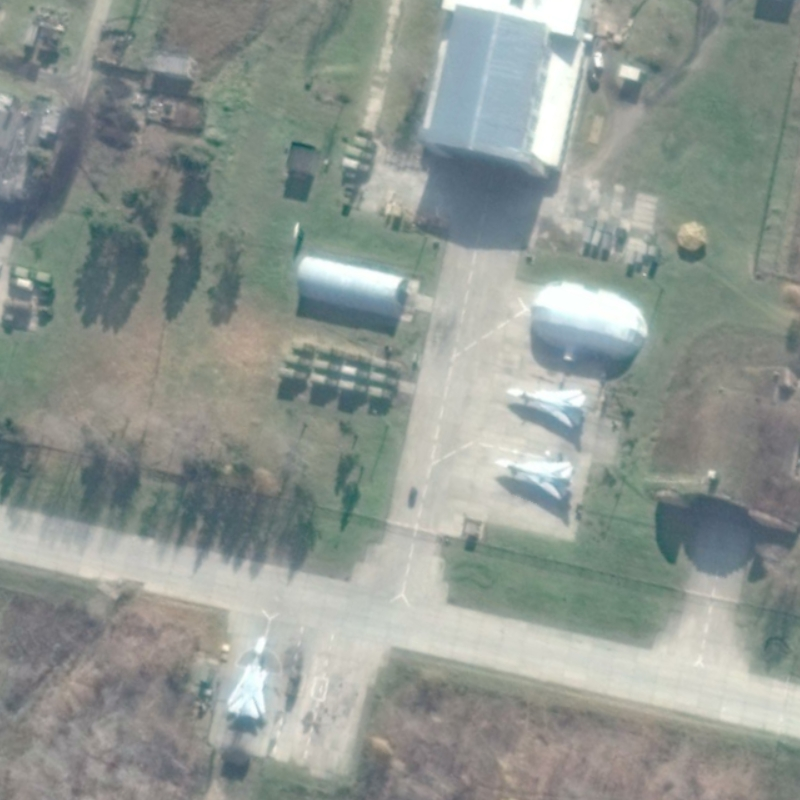A20: (225, 634, 269, 722), (505, 385, 589, 430), (493, 456, 575, 502)
